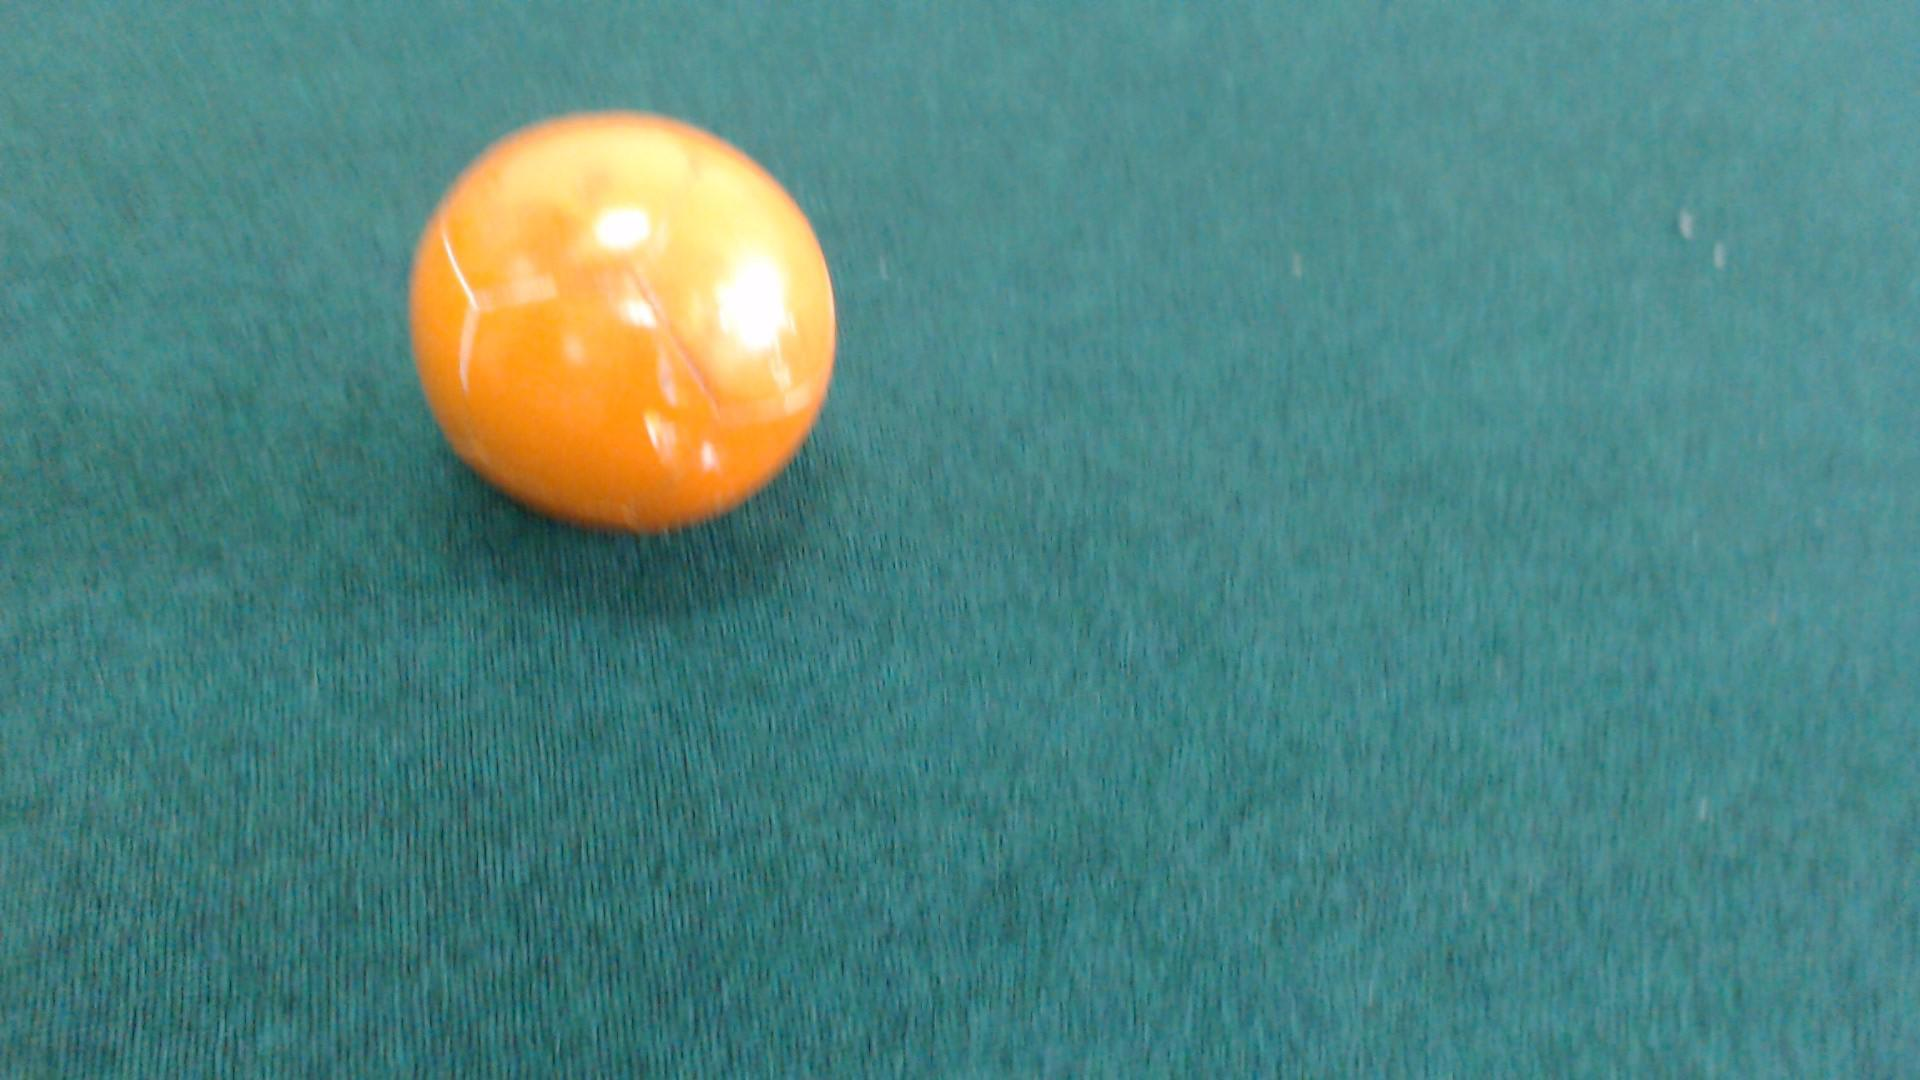bola: (356, 98, 868, 526)
